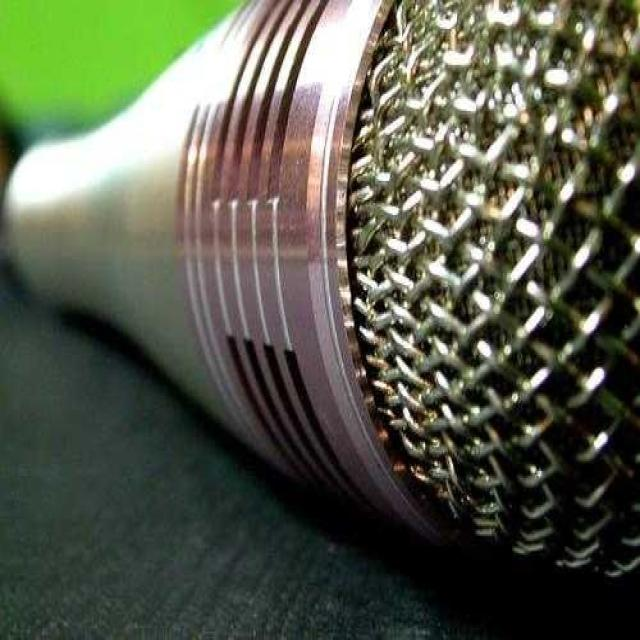microphone: (11, 12, 630, 568)
